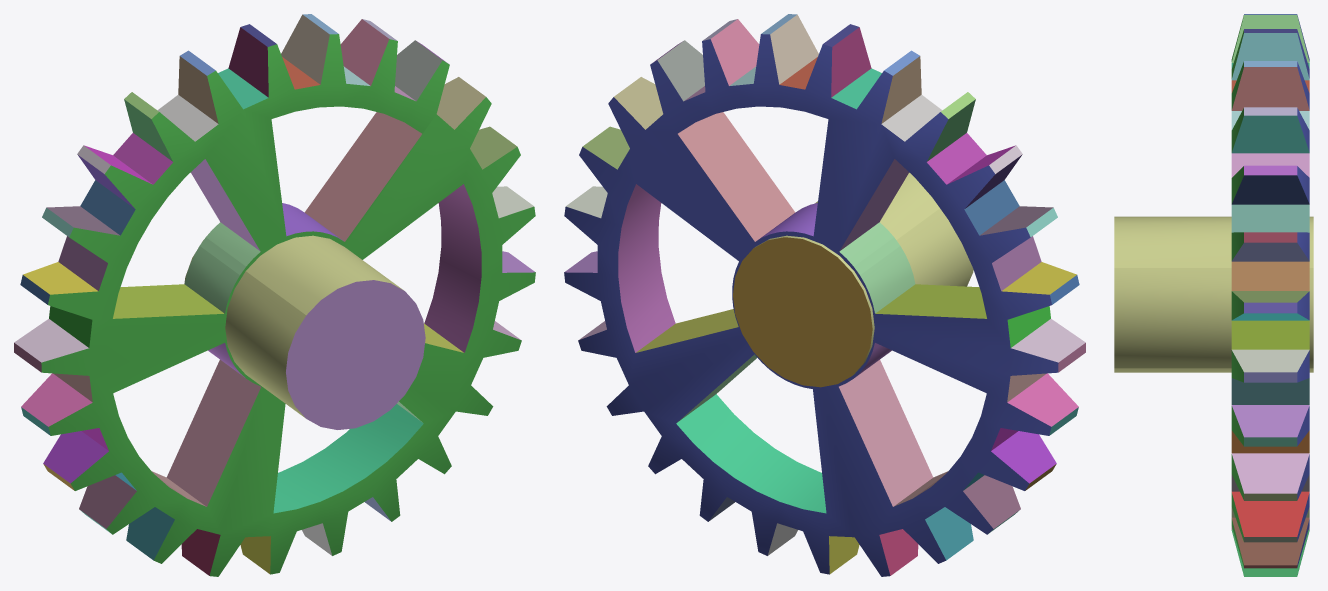
The model's file is module-timer-04.glb.
3 renders of one model, left to right at view 1: azimuth 30°, elevation 25°; view 2: azimuth 150°, elevation 25°; view 3: azimuth 270°, elevation 25°, orthographic. The views are drawn at different scales.
Bounding box in the file's own units: 0.7071 × 0.7235 × 0.255.
